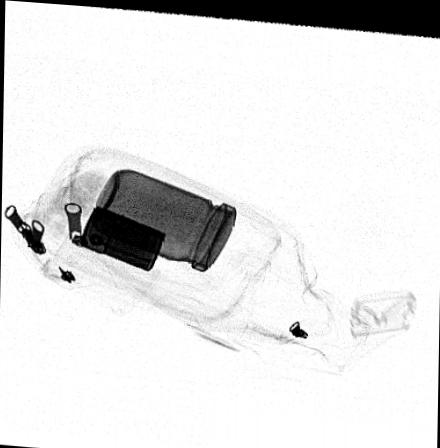Lighter: (77, 201, 166, 268)
